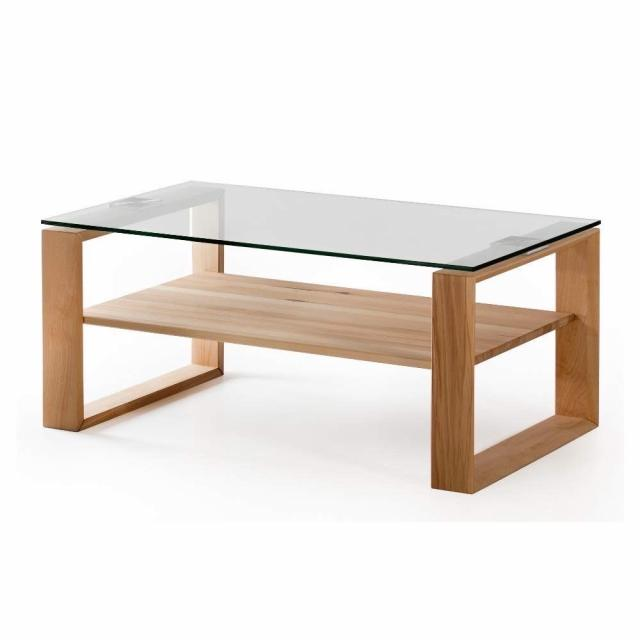table: (19, 160, 617, 544)
